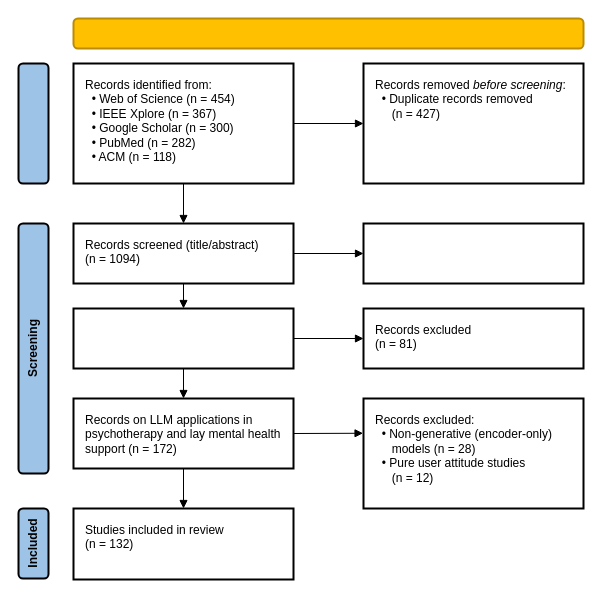
Image size: 601x597. Some labels were removed from this diagram. The shapes that lost their labels are listed below. From the top down, each one's centre as x and y in pixels, then its label:
At (328,33): "Identification of studies via databases".
At (33,123): "Identification".
At (473,253): "Records excluded (n = 836)".
At (183,338): "Records screened (full text) (n = 258)".
